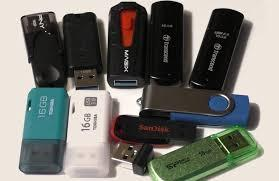Flash-drive: (148, 126, 262, 180), (63, 90, 121, 179), (14, 89, 63, 173), (12, 9, 68, 82), (139, 88, 262, 121), (190, 7, 240, 86), (106, 10, 150, 95), (61, 10, 108, 87), (141, 11, 189, 84), (102, 114, 206, 140)
